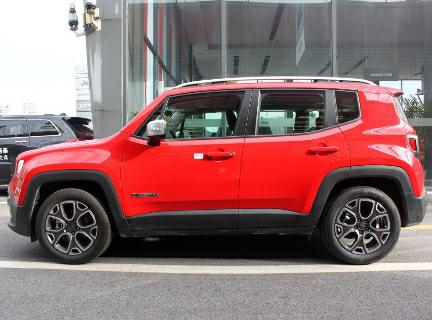Jeep-自由侠: (4, 69, 430, 280)
